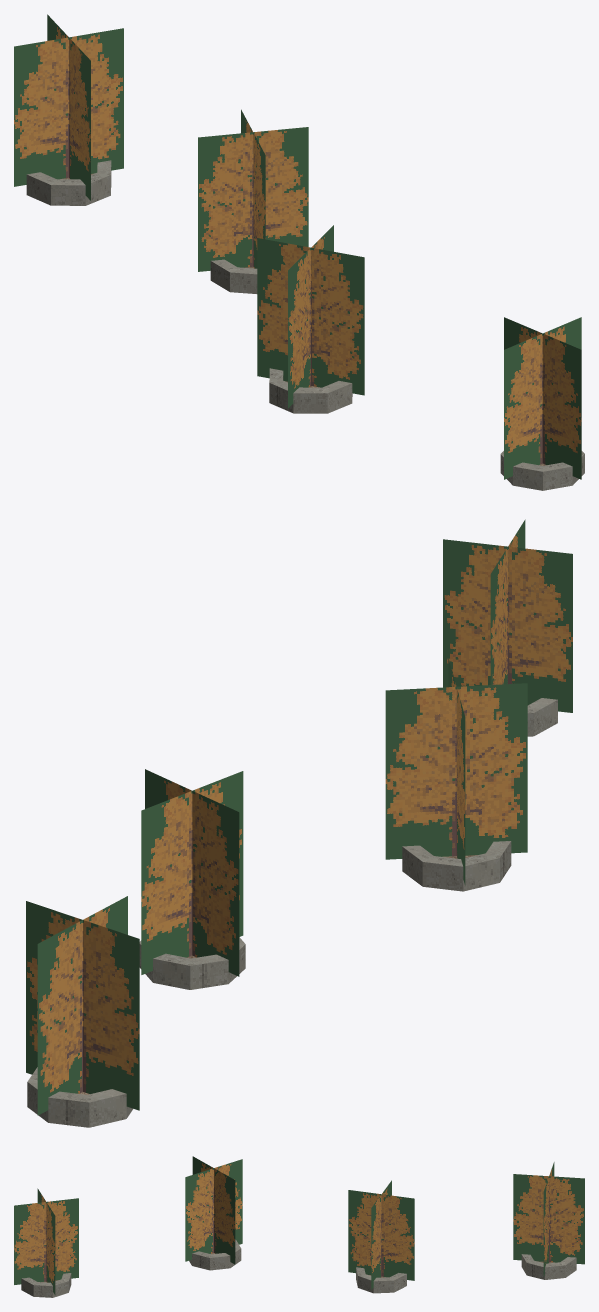
The model's file is procgen-procpain-tree-park-large-xm3z1.obj.
3 renders of one model, top to bottom at view 1: azimuth 30°, elevation 25°; view 2: azimuth 150°, elevation 25°; view 3: azimuth 270°, elevation 25°, orthographic. The views are drawn at different scales.
Bounding box in the file's own units: 9.4 × 7.47 × 41.88.
